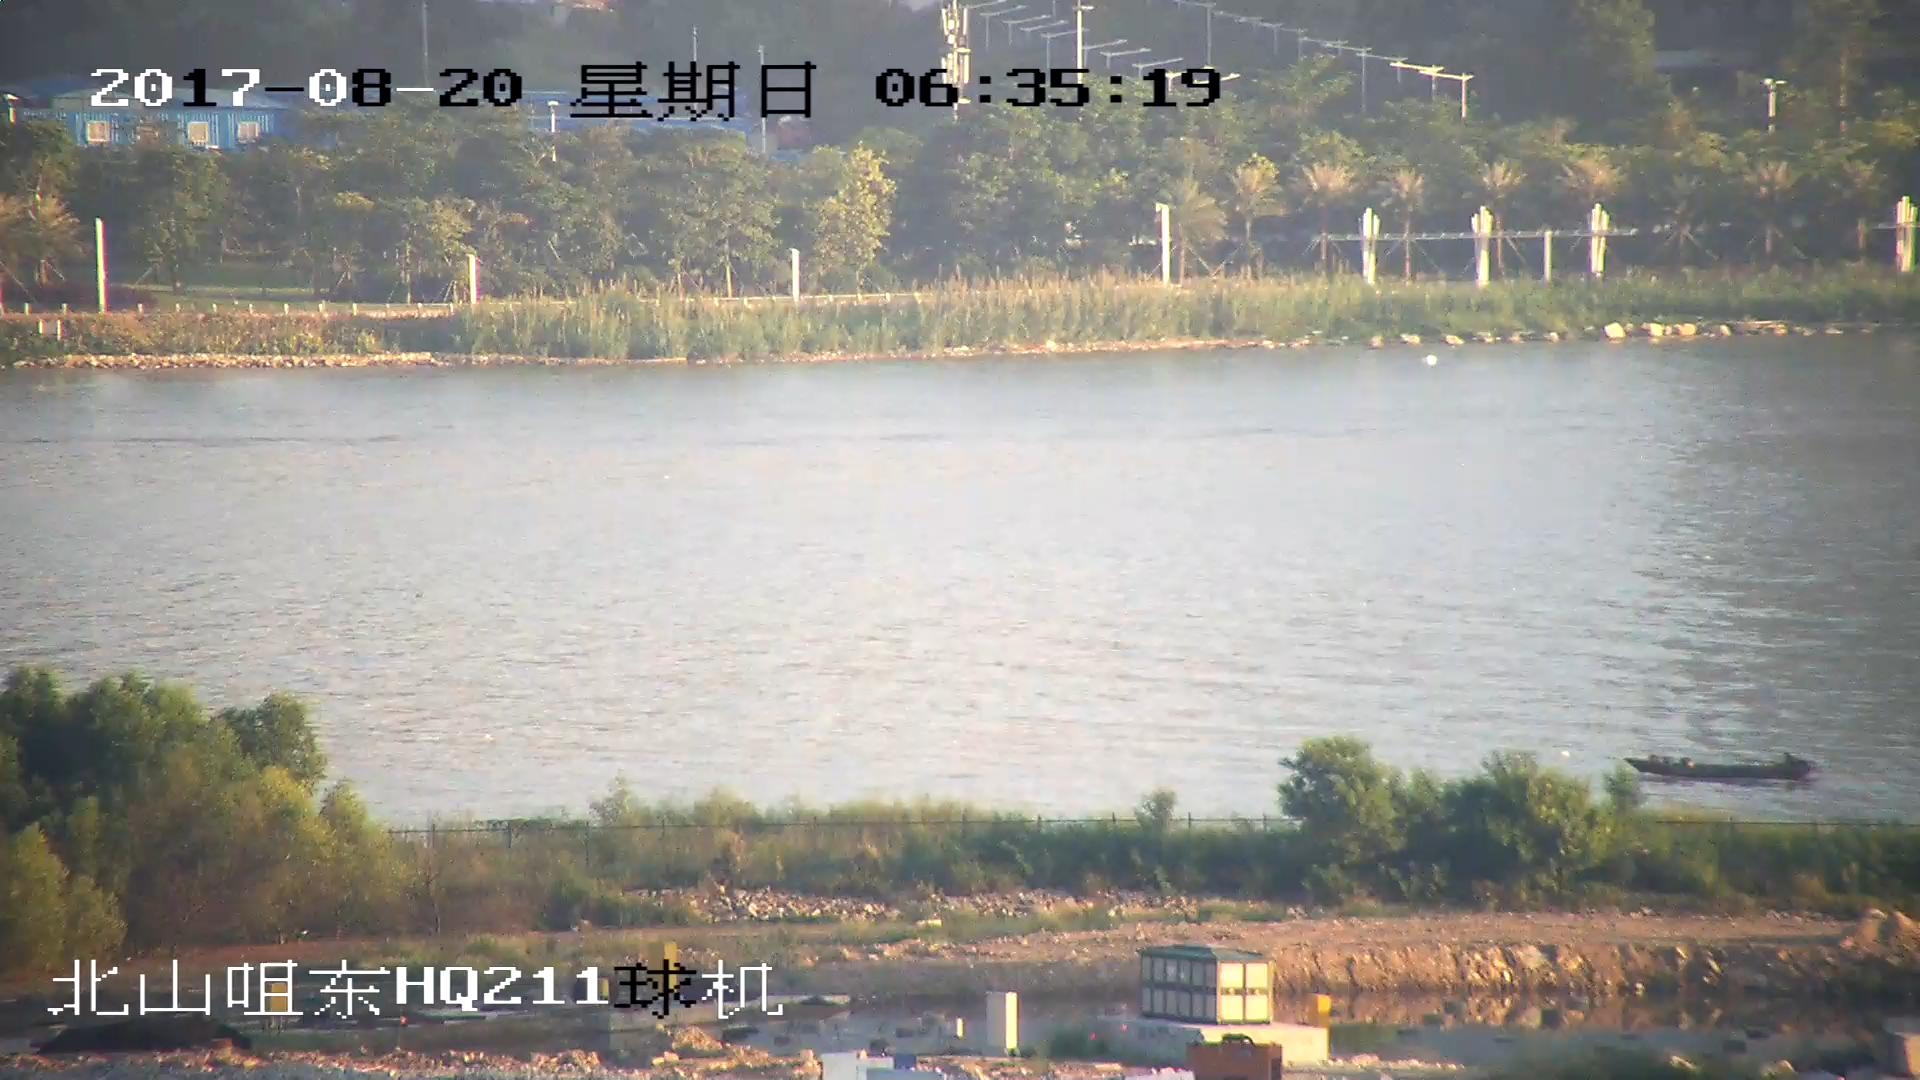fishing boat: (1631, 745, 1822, 786)
